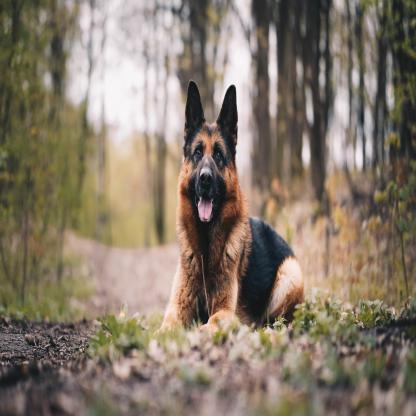dog: (157, 79, 311, 323)
